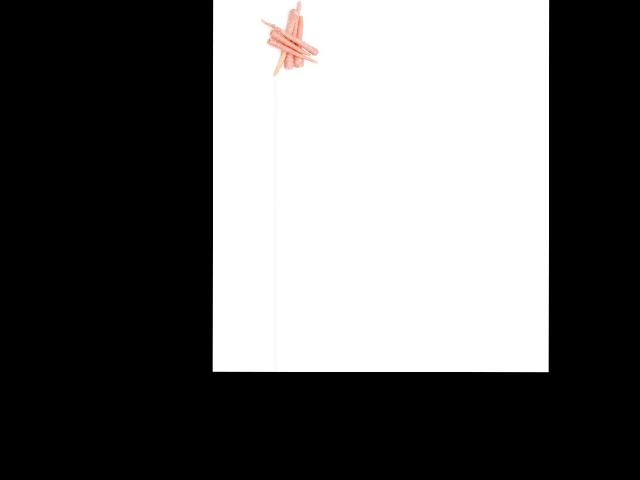carrot: (268, 40, 317, 64)
